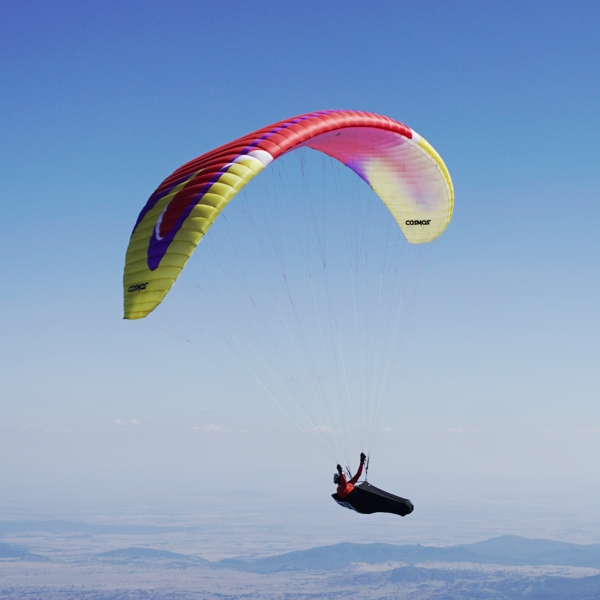Paraglider: (114, 104, 474, 329)
